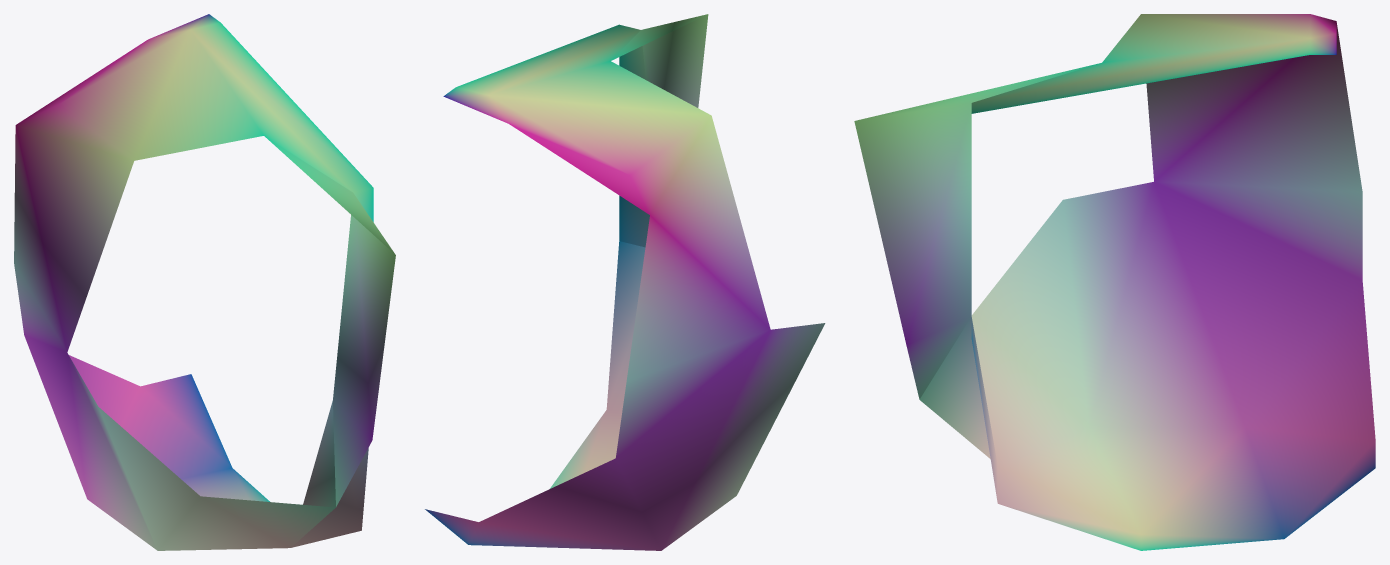
3 renders of one model, left to right at view 1: azimuth 30°, elevation 25°; view 2: azimuth 150°, elevation 25°; view 3: azimuth 270°, elevation 25°, orthographic. The views are drawn at different scales.
Visible parts, largest first — view 1: part; view 2: part; view 3: part.
Part boxes in pixels (x1,y1,x2,y2): part: (14,14,395,550); part: (425,14,825,550); part: (854,14,1375,550).
Bounding box in the file's own units: 23 × 42 × 40.
